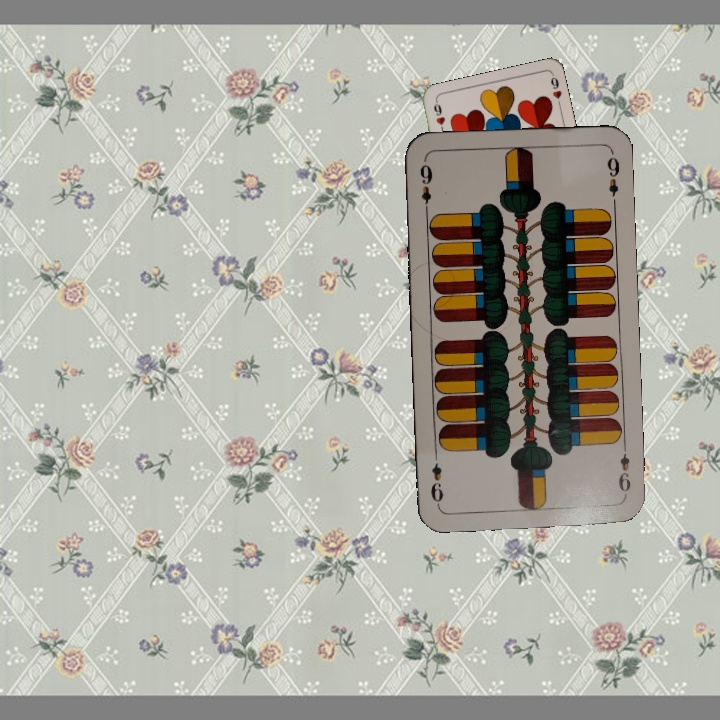E9: (415, 157, 435, 216), (614, 440, 634, 499)
H9: (430, 98, 447, 139)
